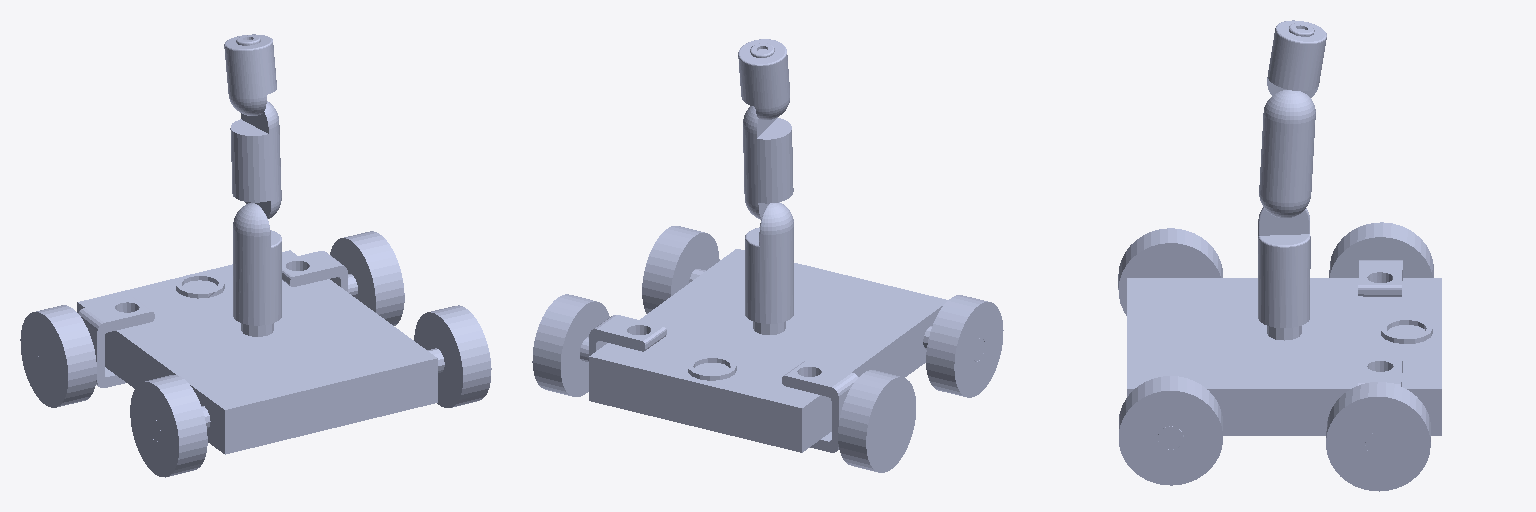
The robot description file, URDF, robot "fire_fight_1":
<?xml version="1.0" encoding="utf-8"?>
<!-- This URDF was automatically created by SolidWorks to URDF Exporter! Originally created by [author] ([email redacted]) 
     Commit Version: 1.6.0-1-g15f4949  Build Version: 1.6.7594.29634
     For more information, please see http://wiki.ros.org/sw_urdf_exporter -->
<robot
  name="fire_fight_1">
  <link name="dummy">
  </link>
  <joint name="dummy_joint" type="fixed">
    <parent link="dummy"/>
    <child link="Chassis"/>
  </joint>
  <link
    name="Chassis">
    <inertial>
      <origin
        xyz="0 0.0041296 0.03787"
        rpy="0 1 0" />
      <mass
        value="1.365" />
      <inertia
        ixx="0.2401"
        ixy="-2.8219E-17"
        ixz="-3.2291E-19"
        iyy="0.17437"
        iyz="-0.00011945"
        izz="0.40145" />
    </inertial>
    <visual>
      <origin
        xyz="0 0 0"
        rpy="0 0 0" />
      <geometry>
        <mesh
          filename="package://fire_fight_1/meshes/Chassis.STL" />
      </geometry>
      <material
        name="">
        <color
          rgba="0.79216 0.81961 0.93333 1" />
      </material>
    </visual>
    <collision>
      <origin
        xyz="0 0 0"
        rpy="0 0 0" />
      <geometry>
        <mesh
          filename="package://fire_fight_1/meshes/Chassis.STL" />
      </geometry>
    </collision>
  </link>
  <link
    name="A_link1">
    <inertial>
      <origin
        xyz="-0.0018147 0.001304 0.079067"
        rpy="0 0 0" />
      <mass
        value="0.070683" />
      <inertia
        ixx="0.0018663"
        ixy="-1.5681E-06"
        ixz="9.6484E-05"
        iyy="0.0018653"
        iyz="-6.9333E-05"
        izz="0.00050046" />
    </inertial>
    <visual>
      <origin
        xyz="0 0 0"
        rpy="0 0 0" />
      <geometry>
        <mesh
          filename="package://fire_fight_1/meshes/A_link1.STL" />
      </geometry>
      <material
        name="">
        <color
          rgba="0.79216 0.81961 0.93333 1" />
      </material>
    </visual>
    <collision>
      <origin
        xyz="0 0 0"
        rpy="0 0 0" />
      <geometry>
        <mesh
          filename="package://fire_fight_1/meshes/A_link1.STL" />
      </geometry>
    </collision>
  </link>
  <joint
    name="A1"
    type="revolute">
    <origin
      xyz="0 0 0.0254"
      rpy="0 0 0.7" />
    <parent
      link="Chassis" />
    <child
      link="A_link1" />
    <axis
      xyz="0 0 1" />
    <limit
      lower="0"
      upper="6.28"
      effort="1000"
      velocity="1" />
  </joint>
  <link
    name="A_link2">
    <inertial>
      <origin
        xyz="0.0044859 0.088677 0.0033545"
        rpy="0 0 0" />
      <mass
        value="0.066025" />
      <inertia
        ixx="0.0015864"
        ixy="-5.7236E-05"
        ixz="-1.2367E-08"
        iyy="0.00045786"
        iyz="-2.4447E-07"
        izz="0.0015967" />
    </inertial>
    <visual>
      <origin
        xyz="0 0 0"
        rpy="0 0 0" />
      <geometry>
        <mesh
          filename="package://fire_fight_1/meshes/A_link2.STL" />
      </geometry>
      <material
        name="">
        <color
          rgba="0.79216 0.81961 0.93333 1" />
      </material>
    </visual>
    <collision>
      <origin
        xyz="0 0 0"
        rpy="0 0 0" />
      <geometry>
        <mesh
          filename="package://fire_fight_1/meshes/A_link2.STL" />
      </geometry>
    </collision>
  </link>
  <joint
    name="A2"
    type="revolute">
    <origin
      xyz="0 0 0.17526"
      rpy="1.5708 0 0.94776" />
    <parent
      link="A_link1" />
    <child
      link="A_link2" />
    <axis
      xyz="0 0 1" />
    <limit
      lower="-1.57"
      upper="1.57"
      effort="1000"
      velocity="1" />
  </joint>
  <link
    name="A_link3">
    <inertial>
      <origin
        xyz="-0.0090929 0.061252 0.0021704"
        rpy="0 0 0" />
      <mass
        value="0.042671" />
      <inertia
        ixx="0.00050673"
        ixy="3.118E-05"
        ixz="-6.1988E-06"
        iyy="0.00030132"
        iyz="4.1756E-05"
        izz="0.00051337" />
    </inertial>
    <visual>
      <origin
        xyz="0 0 0"
        rpy="0 0 0" />
      <geometry>
        <mesh
          filename="package://fire_fight_1/meshes/A_link3.STL" />
      </geometry>
      <material
        name="">
        <color
          rgba="0.79216 0.81961 0.93333 1" />
      </material>
    </visual>
    <collision>
      <origin
        xyz="0 0 0"
        rpy="0 0 0" />
      <geometry>
        <mesh
          filename="package://fire_fight_1/meshes/A_link3.STL" />
      </geometry>
    </collision>
  </link>
  <joint
    name="A3"
    type="revolute">
    <origin
      xyz="0.0088546 0.17504 0"
      rpy="3.1416 0 3.1416" />
    <parent
      link="A_link2" />
    <child
      link="A_link3" />
    <axis
      xyz="0 0 1" />
    <limit
      lower="-1.57"
      upper="1.57"
      effort="1000"
      velocity="1" />
  </joint>
  <link
    name="Holder_1">
    <inertial>
      <origin
        xyz="-0.05393 0.0007167 -0.0381"
        rpy="0 0 0" />
      <mass
        value="0.3321" />
      <inertia
        ixx="0.00054535"
        ixy="7.1707E-06"
        ixz="6.4297E-19"
        iyy="0.0010848"
        iyz="-1.7651E-20"
        izz="0.00074013" />
    </inertial>
    <visual>
      <origin
        xyz="0 0 0"
        rpy="0 0 0" />
      <geometry>
        <mesh
          filename="package://fire_fight_1/meshes/Holder_1.STL" />
      </geometry>
      <material
        name="">
        <color
          rgba="0.79216 0.81961 0.93333 1" />
      </material>
    </visual>
    <collision>
      <origin
        xyz="0 0 0"
        rpy="0 0 0" />
      <geometry>
        <mesh
          filename="package://fire_fight_1/meshes/Holder_1.STL" />
      </geometry>
    </collision>
  </link>
  <joint
    name="H1"
    type="revolute">
    <origin
      xyz="-0.1524 0.1397 0"
      rpy="0 0 0" />
    <parent
      link="Chassis" />
    <child
      link="Holder_1" />
    <axis
      xyz="0 0 -1" />
    <limit
      lower="-1.75"
      upper="1.75"
      effort="1000"
      velocity="1" />
  </joint>
  <link
    name="Wheel">
    <inertial>
      <origin
        xyz="0 0 -1.3878E-17"
        rpy="0 0 0" />
      <mass
        value="0.86875" />
      <inertia
        ixx="0.0015267"
        ixy="5.1618E-20"
        ixz="-3.3881E-21"
        iyy="0.0015267"
        iyz="-8.1367E-21"
        izz="0.0026798" />
    </inertial>
    <visual>
      <origin
        xyz="0 0 0"
        rpy="0 0 0" />
      <geometry>
        <mesh
          filename="package://fire_fight_1/meshes/Wheel.STL" />
      </geometry>
      <material
        name="">
        <color
          rgba="0.79216 0.81961 0.93333 1" />
      </material>
    </visual>
    <collision>
      <origin
        xyz="0 0 0"
        rpy="0 0 0" />
      <geometry>
        <mesh
          filename="package://fire_fight_1/meshes/Wheel.STL" />
      </geometry>
    </collision>
  </link>
  <joint
    name="W1"
    type="continuous">
    <origin
      xyz="-0.12191 0.0016201 -0.0381"
      rpy="1.5708 0 -1.5841" />
    <parent
      link="Holder_1" />
    <child
      link="Wheel" />
    <axis
      xyz="0 0 1" />
  </joint>
  <link
    name="Holder_2">
    <inertial>
      <origin
        xyz="0.053923 -0.0011082 -0.0381"
        rpy="0 0 0" />
      <mass
        value="0.3321" />
      <inertia
        ixx="0.00054548"
        ixy="1.1087E-05"
        ixz="-4.6956E-19"
        iyy="0.0010847"
        iyz="6.2287E-20"
        izz="0.00074013" />
    </inertial>
    <visual>
      <origin
        xyz="0 0 0"
        rpy="0 0 0" />
      <geometry>
        <mesh
          filename="package://fire_fight_1/meshes/Holder_2.STL" />
      </geometry>
      <material
        name="">
        <color
          rgba="0.79216 0.81961 0.93333 1" />
      </material>
    </visual>
    <collision>
      <origin
        xyz="0 0 0"
        rpy="0 0 0" />
      <geometry>
        <mesh
          filename="package://fire_fight_1/meshes/Holder_2.STL" />
      </geometry>
    </collision>
  </link>
  <joint
    name="H2"
    type="revolute">
    <origin
      xyz="0.1524 0.1397 0"
      rpy="0 0 0" />
    <parent
      link="Chassis" />
    <child
      link="Holder_2" />
    <axis
      xyz="0 0 -1" />
    <limit
      lower="-1.75"
      upper="1.75"
      effort="1000"
      velocity="1" />
  </joint>
  <link
    name="Wheel2">
    <inertial>
      <origin
        xyz="0 0 0"
        rpy="0 0 0" />
      <mass
        value="0.86875" />
      <inertia
        ixx="0.0015267"
        ixy="6.5227E-20"
        ixz="2.7105E-20"
        iyy="0.0015267"
        iyz="-1.208E-19"
        izz="0.0026798" />
    </inertial>
    <visual>
      <origin
        xyz="0 0 0"
        rpy="0 0 0" />
      <geometry>
        <mesh
          filename="package://fire_fight_1/meshes/Wheel2.STL" />
      </geometry>
      <material
        name="">
        <color
          rgba="0.79216 0.81961 0.93333 1" />
      </material>
    </visual>
    <collision>
      <origin
        xyz="0 0 0"
        rpy="0 0 0" />
      <geometry>
        <mesh
          filename="package://fire_fight_1/meshes/Wheel2.STL" />
      </geometry>
    </collision>
  </link>
  <joint
    name="W2"
    type="continuous">
    <origin
      xyz="0.12189 -0.0025052 -0.0381"
      rpy="1.5708 0 1.5502" />
    <parent
      link="Holder_2" />
    <child
      link="Wheel2" />
    <axis
      xyz="0 0 1" />
  </joint>
  <link
    name="Wheel3">
    <inertial>
      <origin
        xyz="0 0 -1.3878E-17"
        rpy="0 0 0" />
      <mass
        value="0.86875" />
      <inertia
        ixx="0.0015267"
        ixy="1.0688E-19"
        ixz="1.1392E-19"
        iyy="0.0015267"
        iyz="9.6195E-20"
        izz="0.0026798" />
    </inertial>
    <visual>
      <origin
        xyz="0 0 0"
        rpy="0 0 0" />
      <geometry>
        <mesh
          filename="package://fire_fight_1/meshes/Wheel3.STL" />
      </geometry>
      <material
        name="">
        <color
          rgba="0.79216 0.81961 0.93333 1" />
      </material>
    </visual>
    <collision>
      <origin
        xyz="0 0 0"
        rpy="0 0 0" />
      <geometry>
        <mesh
          filename="package://fire_fight_1/meshes/Wheel3.STL" />
      </geometry>
    </collision>
  </link>
  <joint
    name="W3"
    type="continuous">
    <origin
      xyz="-0.254 -0.1651 -0.0381"
      rpy="-1.5708 0 1.5708" />
    <parent
      link="Chassis" />
    <child
      link="Wheel3" />
    <axis
      xyz="0 0 1" />
  </joint>
  <link
    name="Wheel4">
    <inertial>
      <origin
        xyz="-5.5511E-17 5.5511E-17 0"
        rpy="0 0 0" />
      <mass
        value="0.86875" />
      <inertia
        ixx="0.0015267"
        ixy="7.1188E-20"
        ixz="-1.1577E-19"
        iyy="0.0015267"
        iyz="6.95E-20"
        izz="0.0026798" />
    </inertial>
    <visual>
      <origin
        xyz="0 0 0"
        rpy="0 0 0" />
      <geometry>
        <mesh
          filename="package://fire_fight_1/meshes/Wheel4.STL" />
      </geometry>
      <material
        name="">
        <color
          rgba="0.79216 0.81961 0.93333 1" />
      </material>
    </visual>
    <collision>
      <origin
        xyz="0 0 0"
        rpy="0 0 0" />
      <geometry>
        <mesh
          filename="package://fire_fight_1/meshes/Wheel4.STL" />
      </geometry>
    </collision>
  </link>
  <joint
    name="W4"
    type="continuous">
    <origin
      xyz="0.254 -0.1651 -0.0381"
      rpy="1.5708 0 1.5708" />
    <parent
      link="Chassis" />
    <child
      link="Wheel4" />
    <axis
      xyz="0 0 1" />
  </joint>
  <transmission name="RWD_left">
    <type>transmission_interface/SimpleTransmission</type>
    <joint name="W3">
      <hardwareInterface>hardware_interface/VelocityJointInterface</hardwareInterface>
    </joint>
    <actuator name="RWD_left_Motor">
      <mechanicalReduction>50</mechanicalReduction>
      <hardwareInterface>hardware_interface/VelocityJointInterface</hardwareInterface>
    </actuator>
  </transmission>
  <transmission name="RWD_Right">
    <type>transmission_interface/SimpleTransmission</type>
    <joint name="W4">
      <hardwareInterface>hardware_interface/VelocityJointInterface</hardwareInterface>
    </joint>
    <actuator name="RWD_Right_Motor">
      <mechanicalReduction>50</mechanicalReduction>
      <hardwareInterface>hardware_interface/VelocityJointInterface</hardwareInterface>
    </actuator>
  </transmission>
  <transmission name="FWD_Right">
    <type>transmission_interface/SimpleTransmission</type>
    <joint name="W2">
      <hardwareInterface>hardware_interface/EffortJointInterface</hardwareInterface>
    </joint>
    <actuator name="FWD_Right_Motor">
      <mechanicalReduction>50</mechanicalReduction>
      <hardwareInterface>hardware_interface/EffortJointInterface</hardwareInterface>
    </actuator>
  </transmission>
  <transmission name="FWD_Left">
    <type>transmission_interface/SimpleTransmission</type>
    <joint name="W1">
      <hardwareInterface>hardware_interface/EffortJointInterface</hardwareInterface>
    </joint>
    <actuator name="FWD_Left_Motor">
      <mechanicalReduction>50</mechanicalReduction>
      <hardwareInterface>hardware_interface/EffortJointInterface</hardwareInterface>
    </actuator>
  </transmission>
  <transmission name="Steer_Left">
    <type>transmission_interface/SimpleTransmission</type>
    <joint name="H1">
      <hardwareInterface>hardware_interface/PositionJointInterface</hardwareInterface>
    </joint>
    <actuator name="H1_Motor">
      <mechanicalReduction>50</mechanicalReduction>
      <hardwareInterface>hardware_interface/PositionJointInterface</hardwareInterface>
    </actuator>
  </transmission>
  <transmission name="Steer_Right">
    <type>transmission_interface/SimpleTransmission</type>
    <joint name="H2">
      <hardwareInterface>hardware_interface/PositionJointInterface</hardwareInterface>
    </joint>
    <actuator name="H2_Motor">
      <mechanicalReduction>50</mechanicalReduction>
      <hardwareInterface>hardware_interface/PositionJointInterface</hardwareInterface>
    </actuator>
  </transmission>
  <transmission name="Arm_1_man">
    <type>transmission_interface/SimpleTransmission</type>
    <joint name="A1">
      <hardwareInterface>hardware_interface/PositionJointInterface</hardwareInterface>
    </joint>
    <actuator name="A1_motor">
      <mechanicalReduction>50</mechanicalReduction>
      <hardwareInterface>hardware_interface/PositionJointInterface</hardwareInterface>
    </actuator>
  </transmission>
  <transmission name="Arm_2_man">
    <type>transmission_interface/SimpleTransmission</type>
    <joint name="A2">
      <hardwareInterface>hardware_interface/PositionJointInterface</hardwareInterface>
    </joint>
    <actuator name="A2_motor">
      <mechanicalReduction>50</mechanicalReduction>
      <hardwareInterface>hardware_interface/PositionJointInterface</hardwareInterface>
    </actuator>
  </transmission>
  <transmission name="Arm_3_man">
    <type>transmission_interface/SimpleTransmission</type>
    <joint name="A3">
      <hardwareInterface>hardware_interface/PositionJointInterface</hardwareInterface>
    </joint>
    <actuator name="A3_motor">
      <mechanicalReduction>50</mechanicalReduction>
      <hardwareInterface>hardware_interface/PositionJointInterface</hardwareInterface>
    </actuator>
  </transmission>
</robot>

--- What the picture shows (computed from the rendered views, not written in the file) ---
Views: 3 orthographic renders of the robot side by side, from view 1: azimuth 30°, elevation 25°; view 2: azimuth 150°, elevation 25°; view 3: azimuth 270°, elevation 25°.
Model fire_fight_1 with 11 links and 10 joints (5 revolute, 4 continuous, 1 fixed), rooted at dummy, posed all joints at 0.
Visible links, largest first — view 1: Chassis, Wheel3, Wheel, A_link1, Wheel4, A_link2, Wheel2, A_link3, Holder_1, Holder_2; view 2: Chassis, Wheel, Wheel3, A_link1, Wheel2, A_link2, Wheel4, A_link3, Holder_1, Holder_2; view 3: Chassis, Wheel2, Wheel4, A_link2, A_link1, Wheel3, Wheel, A_link3, Holder_1, Holder_2.
Link boxes in pixels (x1,y1,x2,y2): Chassis: (77,250,444,454); Wheel3: (130,375,207,477); Wheel: (20,305,96,407); A_link1: (233,203,281,325); Wheel4: (414,305,491,407); A_link2: (230,101,281,218); Wheel2: (330,231,404,325); A_link3: (224,34,276,115); Holder_1: (39,297,154,387); Holder_2: (282,251,357,297); Chassis: (589,249,984,452); Wheel: (838,370,915,472); Wheel3: (926,295,1003,397); A_link1: (745,202,793,323); Wheel2: (532,294,609,396); A_link2: (743,106,793,219); Wheel4: (642,226,719,313); A_link3: (738,39,789,119); Holder_1: (782,361,897,452); Holder_2: (580,315,666,362); Chassis: (1127,278,1441,449); Wheel2: (1326,382,1430,491); Wheel4: (1119,376,1222,485); A_link2: (1259,90,1315,217); A_link1: (1258,207,1310,327); Wheel3: (1118,228,1222,315); Wheel: (1329,222,1433,277); A_link3: (1267,20,1326,97); Holder_1: (1358,260,1402,296); Holder_2: (1358,359,1402,455).
Size in the robot's own frame: 0.602 by 0.4699 by 0.6053 metres.
Meshes: 10 distinct files referenced, 10 mesh visuals loaded (10 binary STL).
